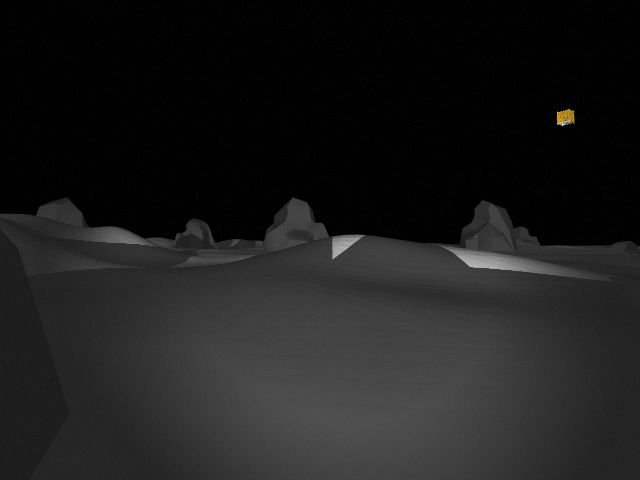cubesat: (552, 105, 581, 130)
